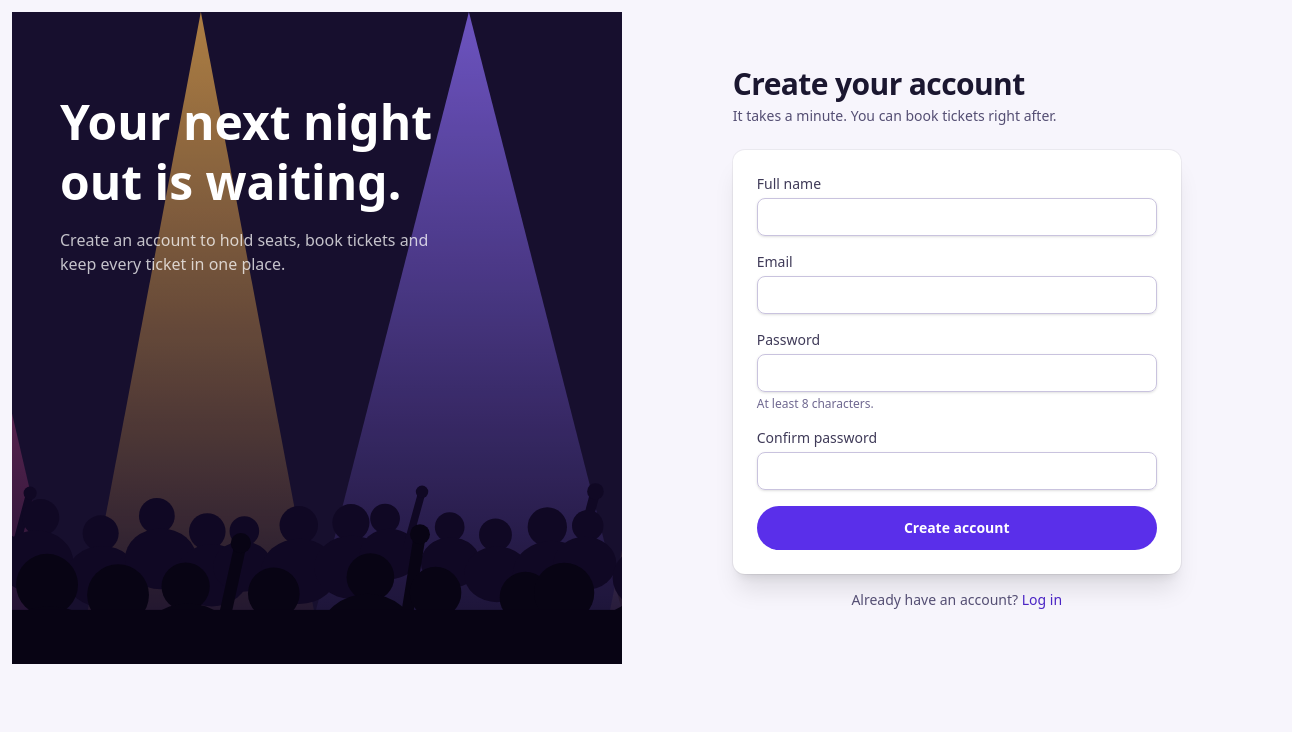
it: RegisterPage › tells the visitor when the email is already taken
The image size is (1292, 732).
Type " Ana Rao " into the field labelled "Full name".
click(957, 217); type(" Ana Rao ")  # box [757, 198, 1157, 236]
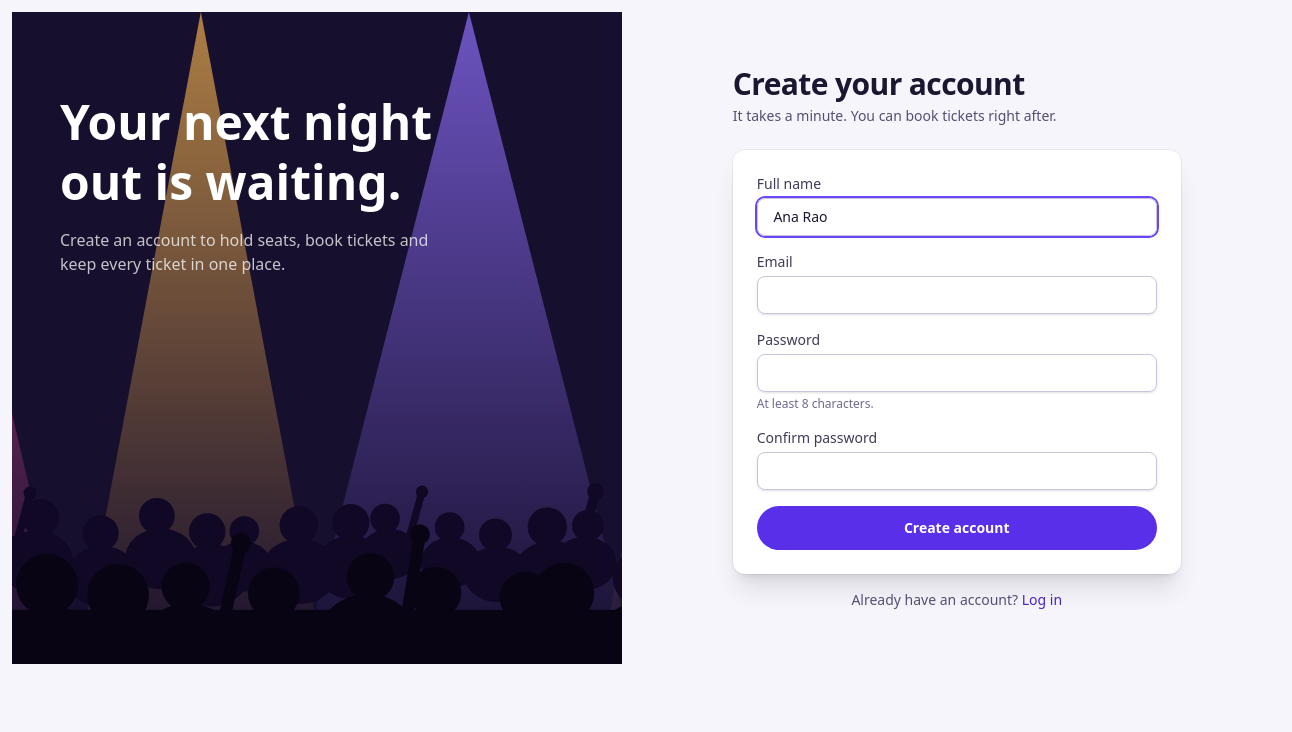
Type " ana@example.com " into the field labelled "Email".
click(957, 295); type(" ana@example.com ")  # box [757, 276, 1157, 314]
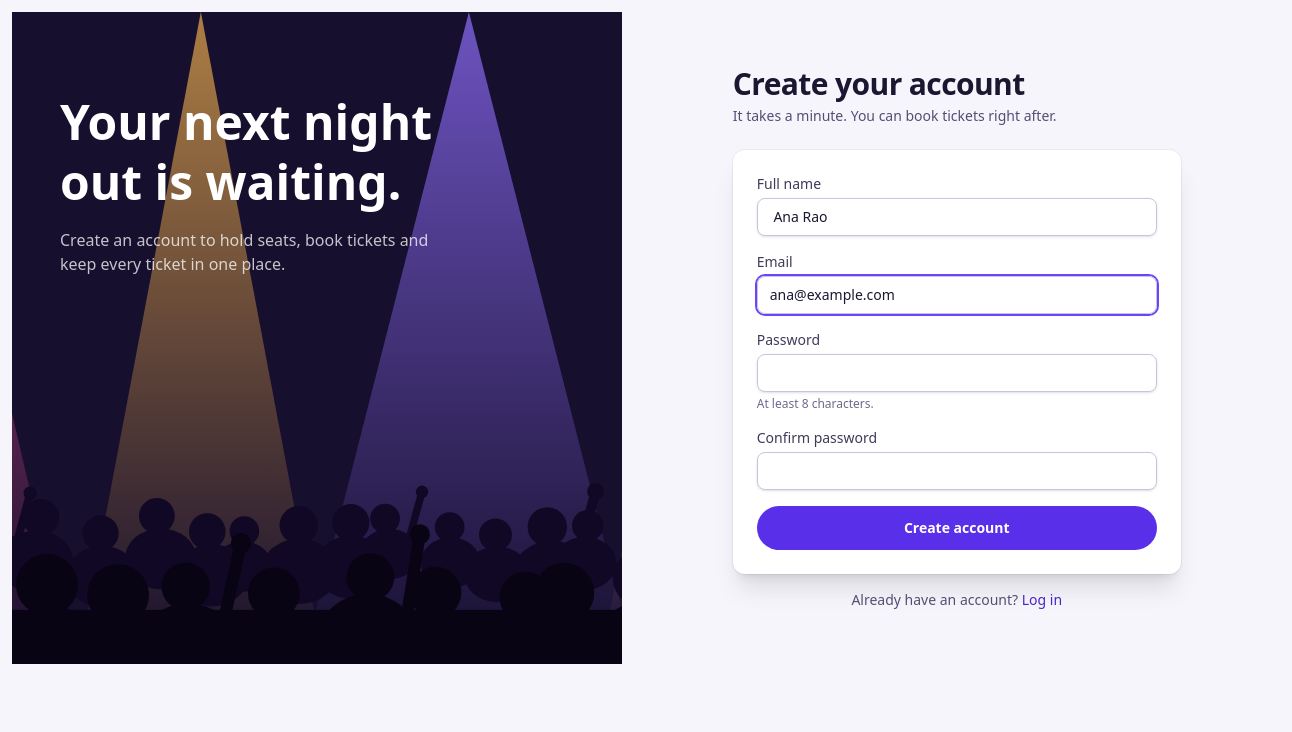
Type "Sup3rSecret!" into the password field labelled "Password".
click(957, 373); type("Sup3rSecret!")  # box [757, 354, 1157, 392]
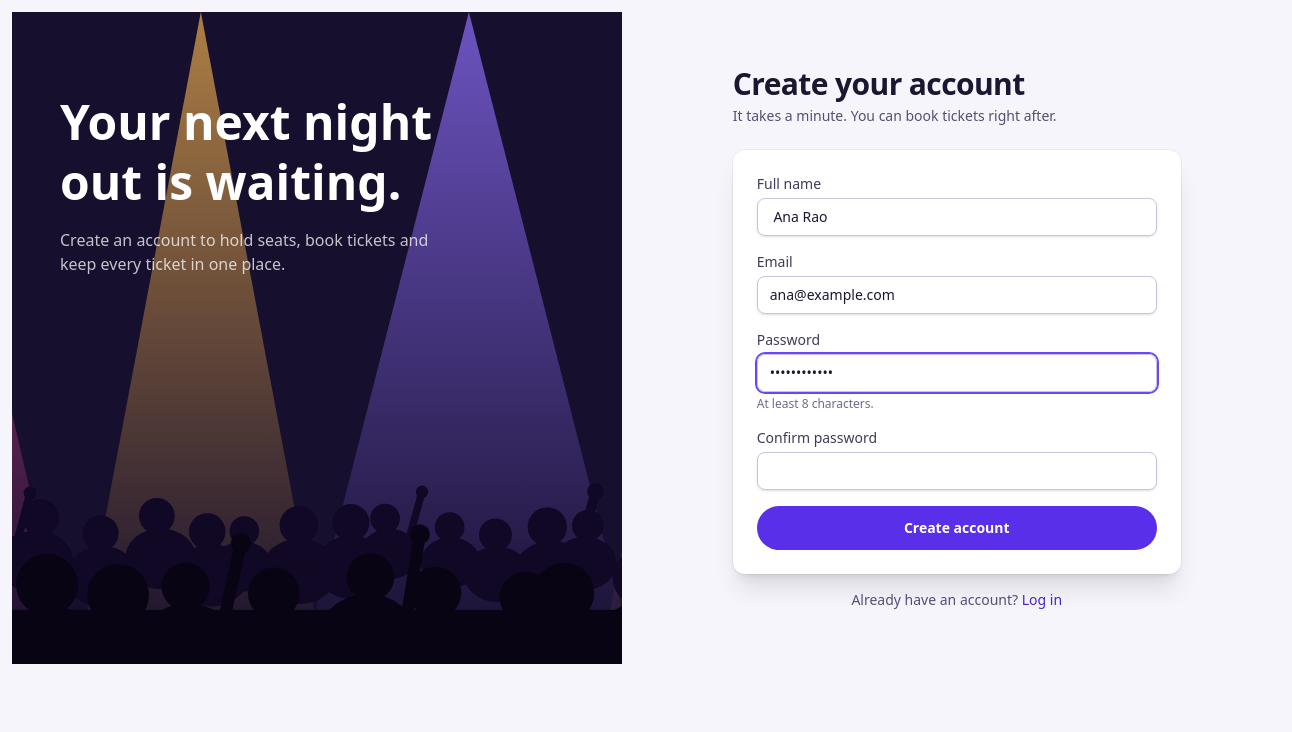
Type "Sup3rSecret!" into the password field labelled "Confirm password".
click(957, 471); type("Sup3rSecret!")  # box [757, 452, 1157, 490]
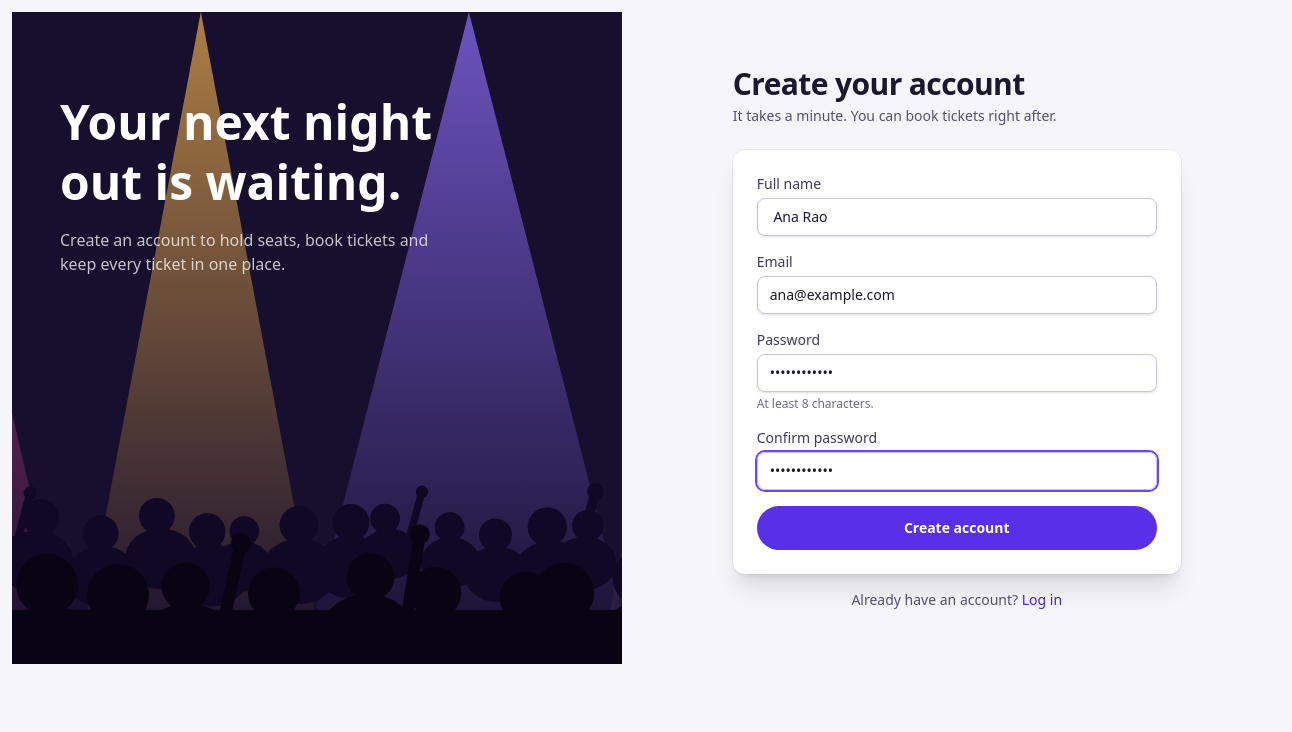
Click the button "Create account".
click(957, 528)  # box [757, 506, 1157, 550]
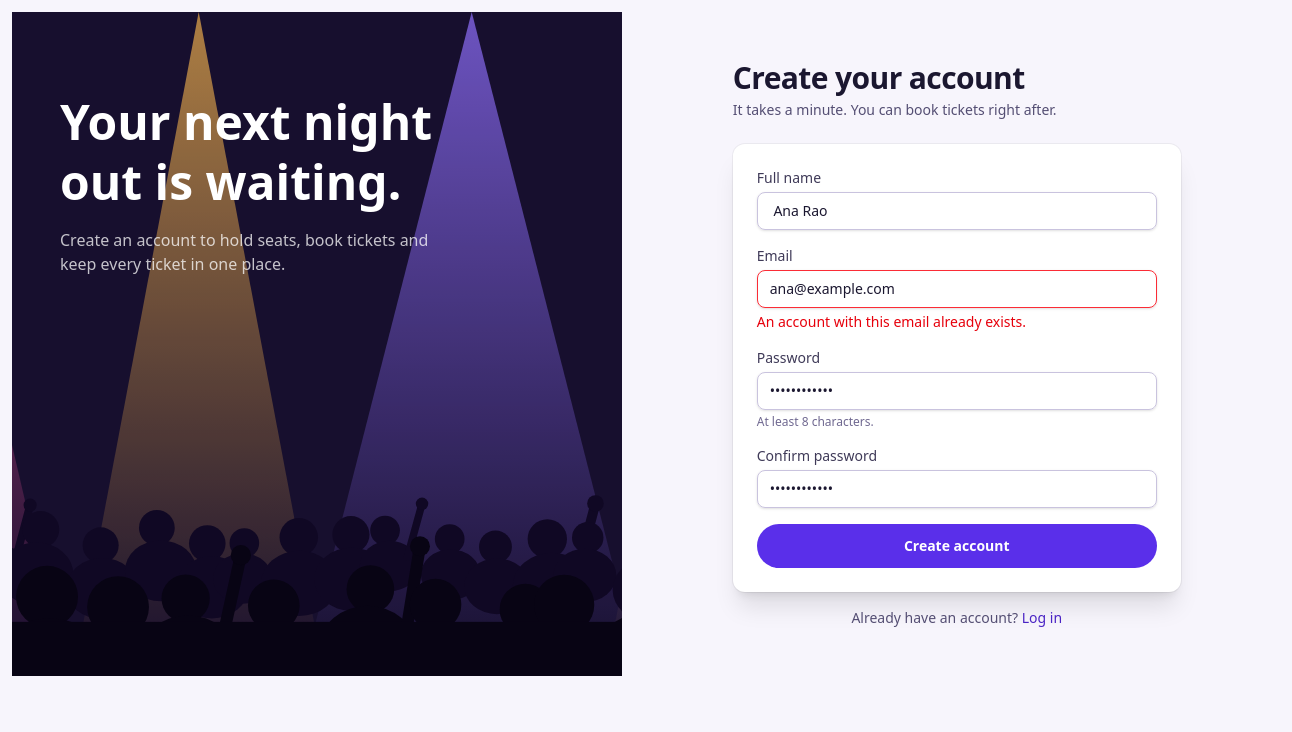
Now the text "An account with this email already exists." is shown, box [757, 312, 1026, 331]
